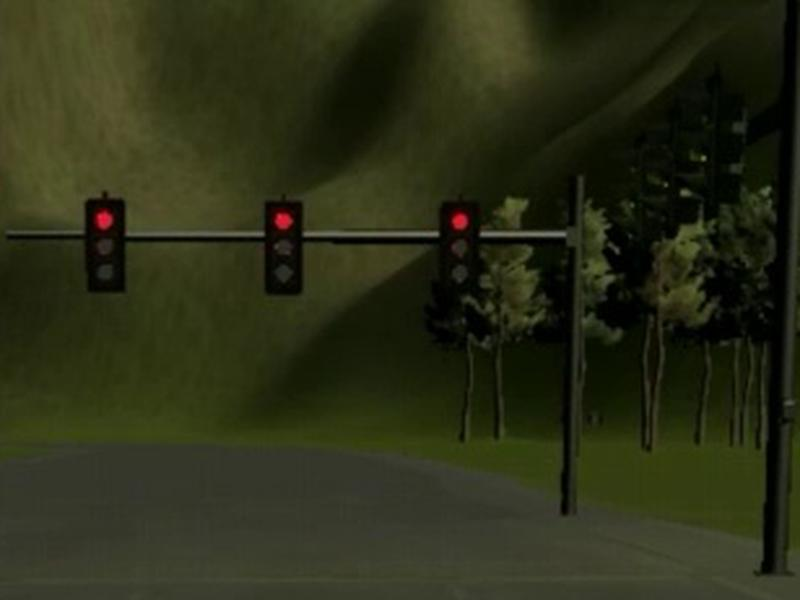Red: (82, 199, 126, 292), (439, 200, 479, 294), (266, 200, 303, 294)
